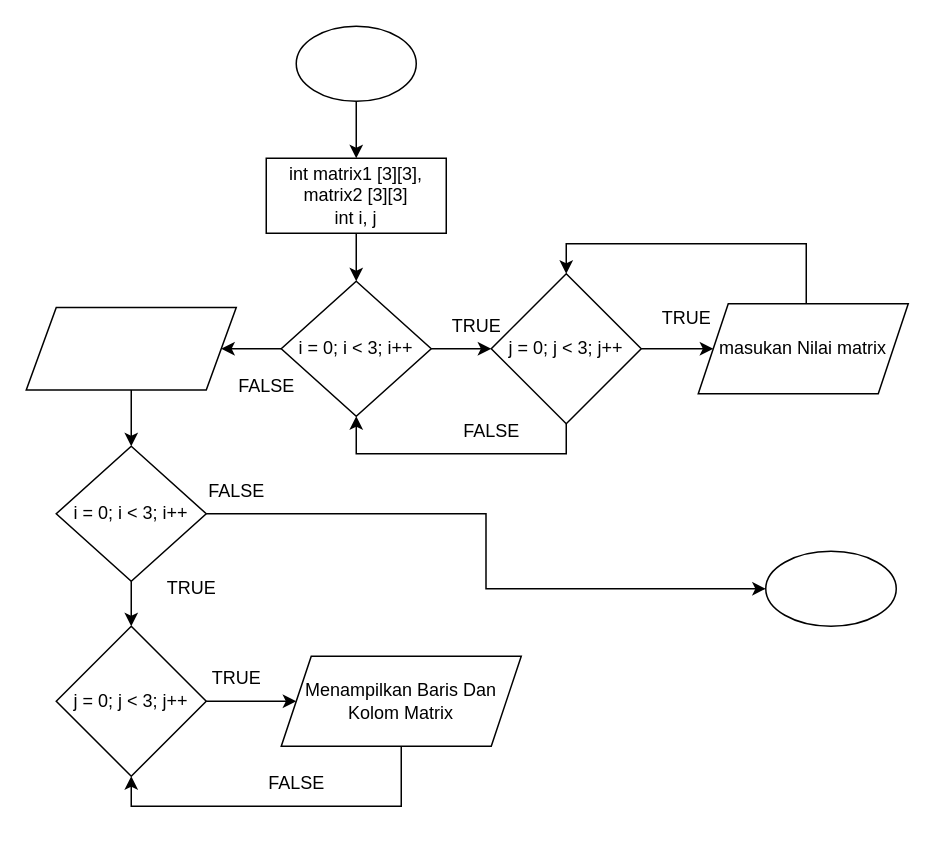
The diagram is 935 pixels wide and 845 high, and some of its shapes have lost their labels. Here are the shapes that lost their labels. From the top down, the box of each, then its label:
(295, 25, 416, 101): START
(25, 306, 236, 390): Menampilkan Matrix
(764, 550, 896, 626): END
